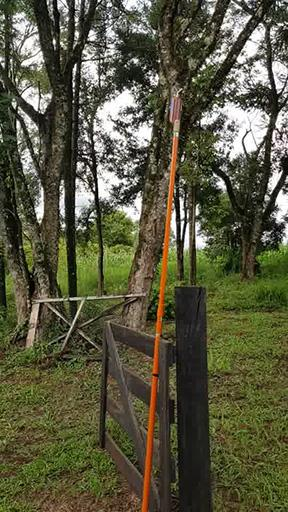Detector_Tensao_Contato: (169, 86, 182, 125)
Vara_Manobra: (141, 123, 181, 512)
